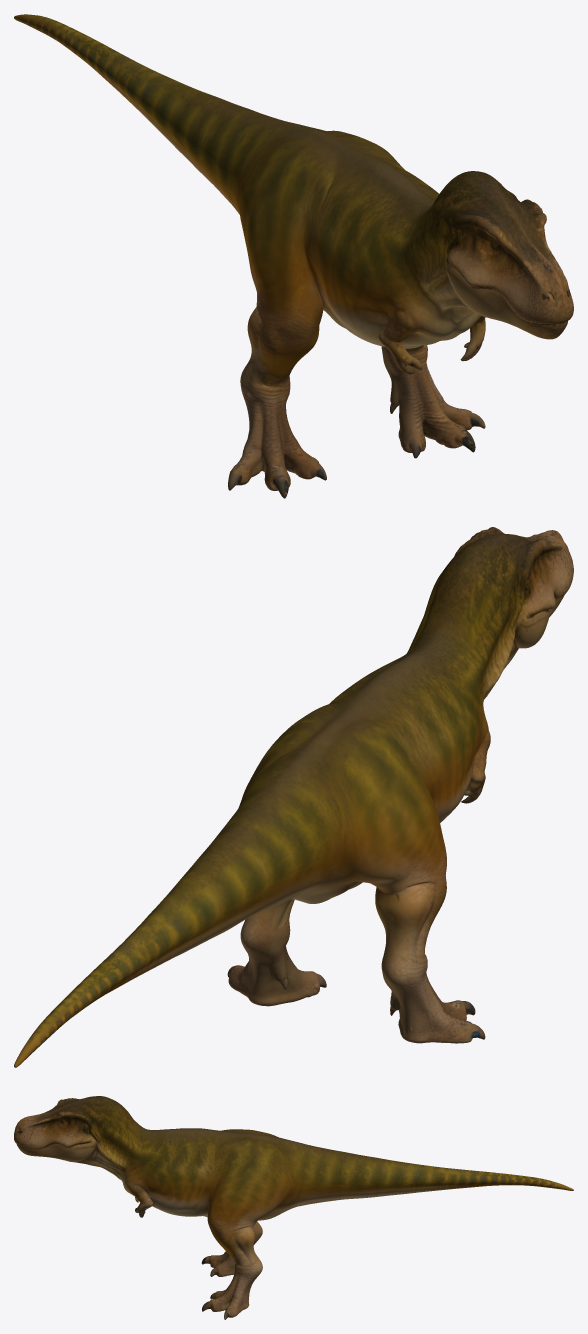
Rendered from trex-desk.glb.
The picture shows the model from 3 angles, top to bottom: view 1: azimuth 30°, elevation 25°; view 2: azimuth 150°, elevation 25°; view 3: azimuth 270°, elevation 25°; orthographic projection. The views are drawn at different scales.
Visible parts, largest first — view 1: material; view 2: material; view 3: material.
Part boxes in pixels (x1,y1,x2,y2): material: (14, 14, 573, 498); material: (14, 527, 573, 1067); material: (14, 1096, 573, 1319).
Bounding box in the file's own units: 0.081 × 0.1131 × 0.3.
1 material, 1 textured.
